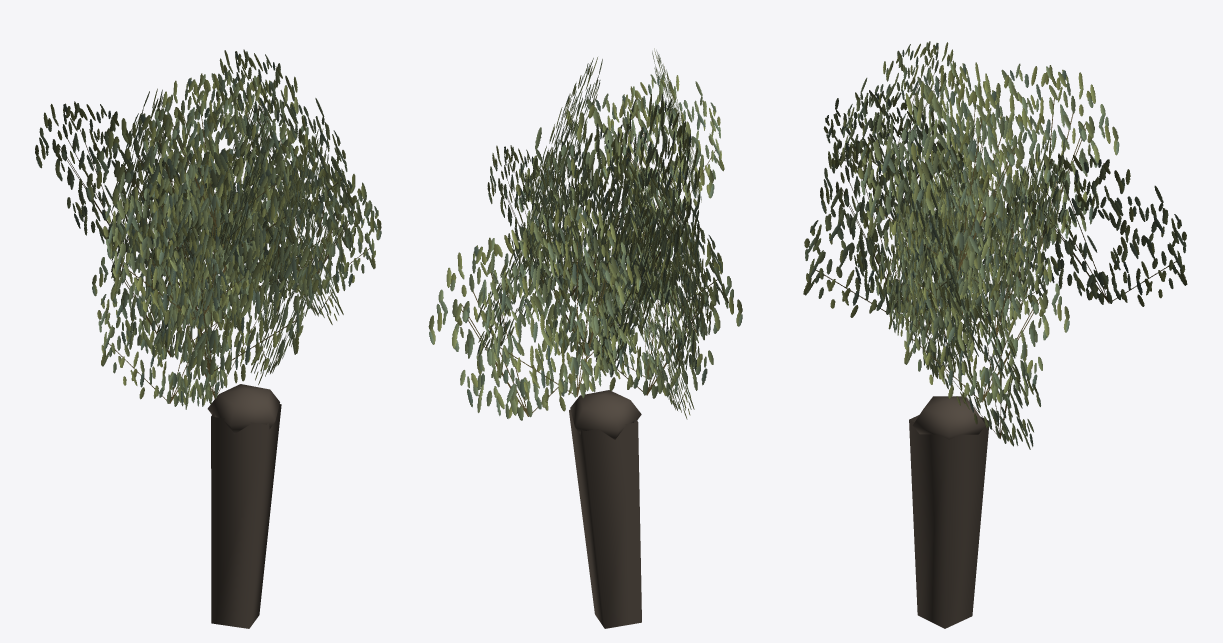
File: tpl_pollards_late_meadow_pollard_lo.glb
The picture shows the model from 3 angles, left to right: view 1: azimuth 30°, elevation 25°; view 2: azimuth 150°, elevation 25°; view 3: azimuth 270°, elevation 25°; orthographic projection.
Parts seen in each view (by area): view 1: tpl_pollards_late_meadow_pollard_lo; view 2: tpl_pollards_late_meadow_pollard_lo; view 3: tpl_pollards_late_meadow_pollard_lo.
Part boxes in pixels (left/top/right/bottom): tpl_pollards_late_meadow_pollard_lo: left=35, top=49, right=381, bottom=628; tpl_pollards_late_meadow_pollard_lo: left=428, top=48, right=742, bottom=628; tpl_pollards_late_meadow_pollard_lo: left=803, top=41, right=1187, bottom=628.
Bounding box in the file's own units: 3.87 × 7.03 × 4.82.
Materials: 2 (1 with a texture image).
